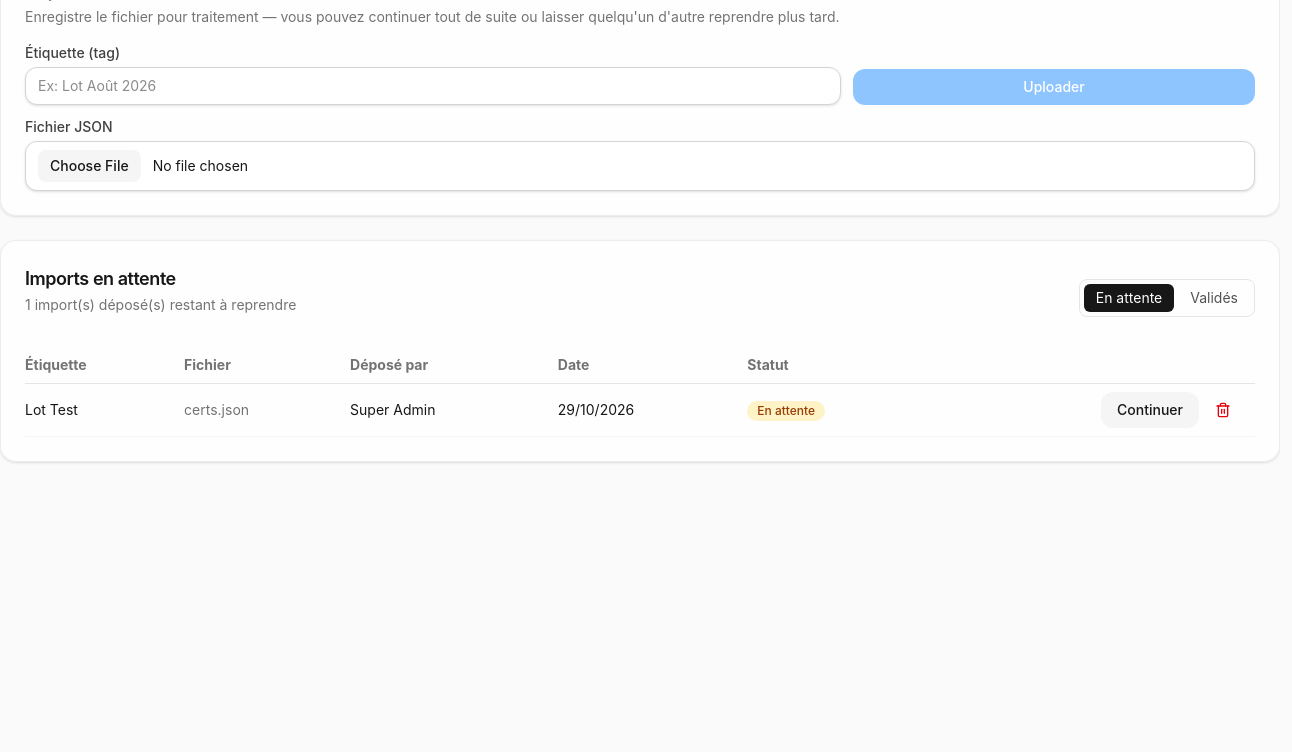
Test: ImportPage › cross-filters patients and doctors when searching a certificate
The width and height of the screenshot is (1292, 752).
Expected: the text "Lot Test" is shown, [25,384,184,436]
Click the button "Continuer" at (1150, 410), box [1101,392,1199,428]
(page scrolled)
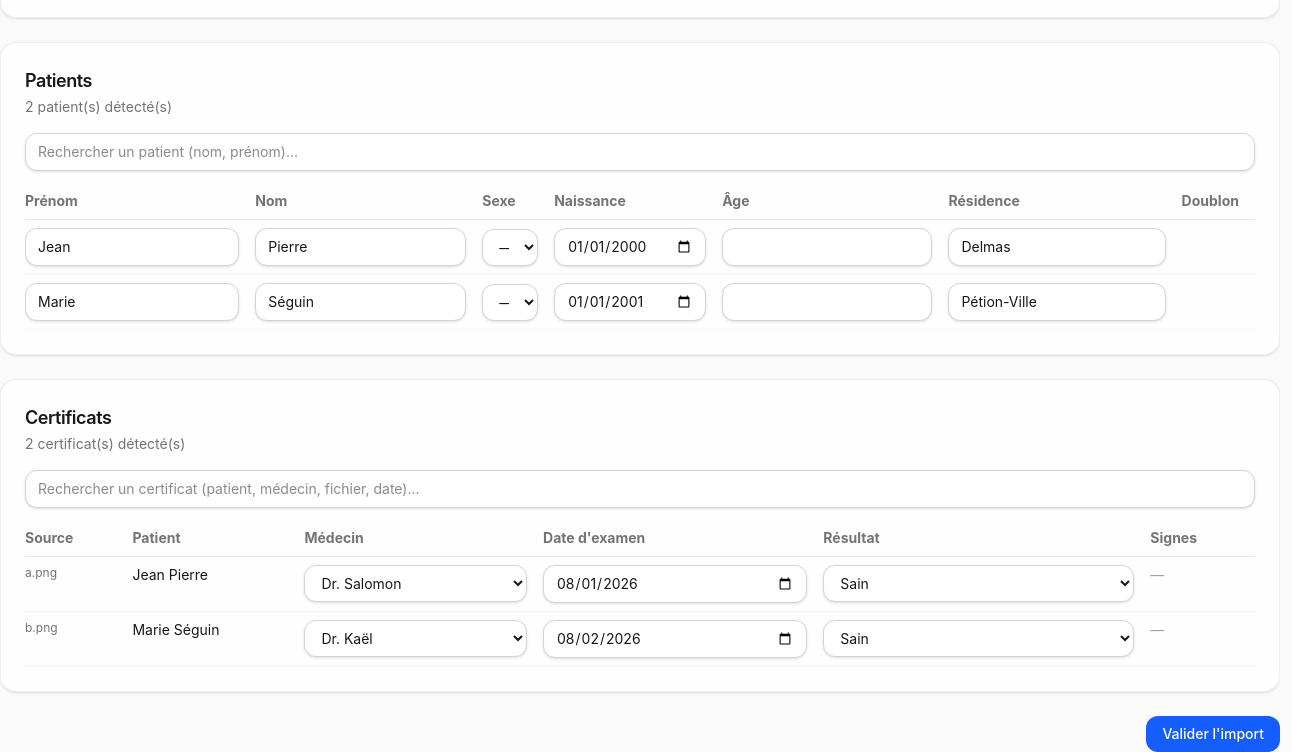
Expected: the heading "Certificats" is shown, [25,407,111,428]
Type "b.png" into the field with placeholder "Rechercher un certificat (patient, médecin, fichier, date)..." at (640, 489), box [25,470,1255,508]
(page scrolled)
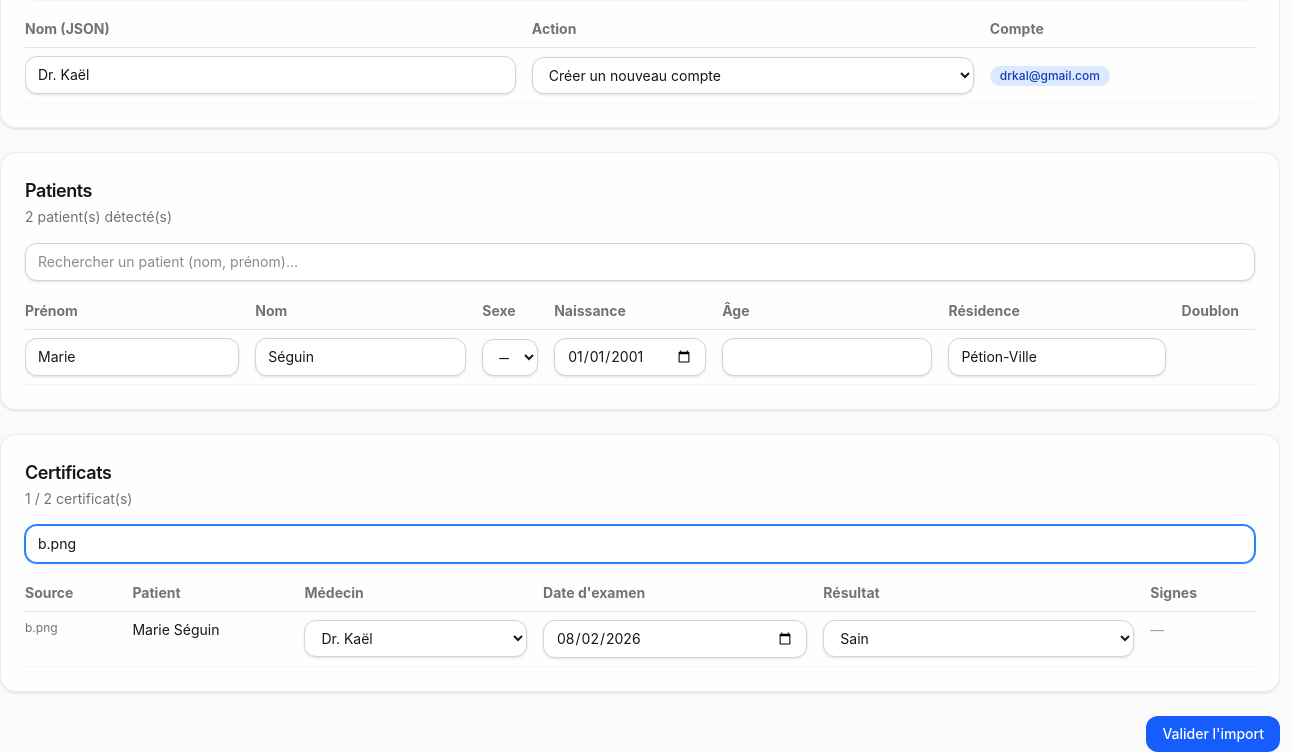
Expected: the 3rd field showing "Séguin" is shown, [255,338,466,376]
Expected: the 1st field showing "Dr. Kaël" is shown, [25,56,516,94]
Expected: the cell showing "Pierre" is gone
